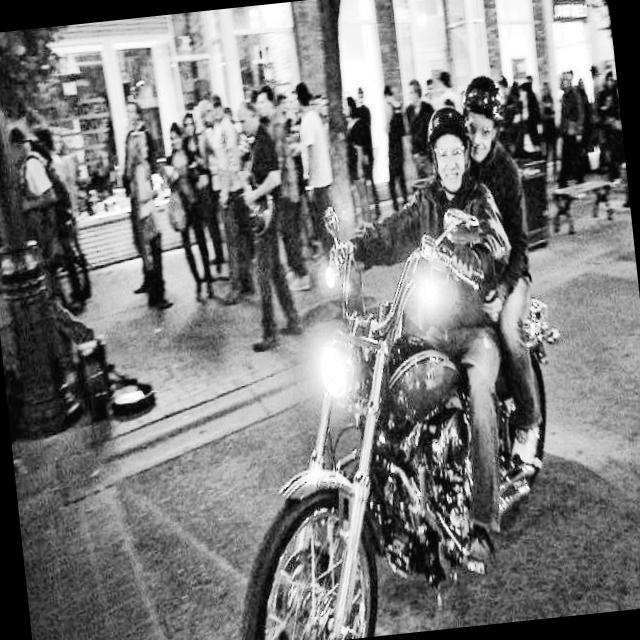Motorcycle: (189, 171, 586, 640)
